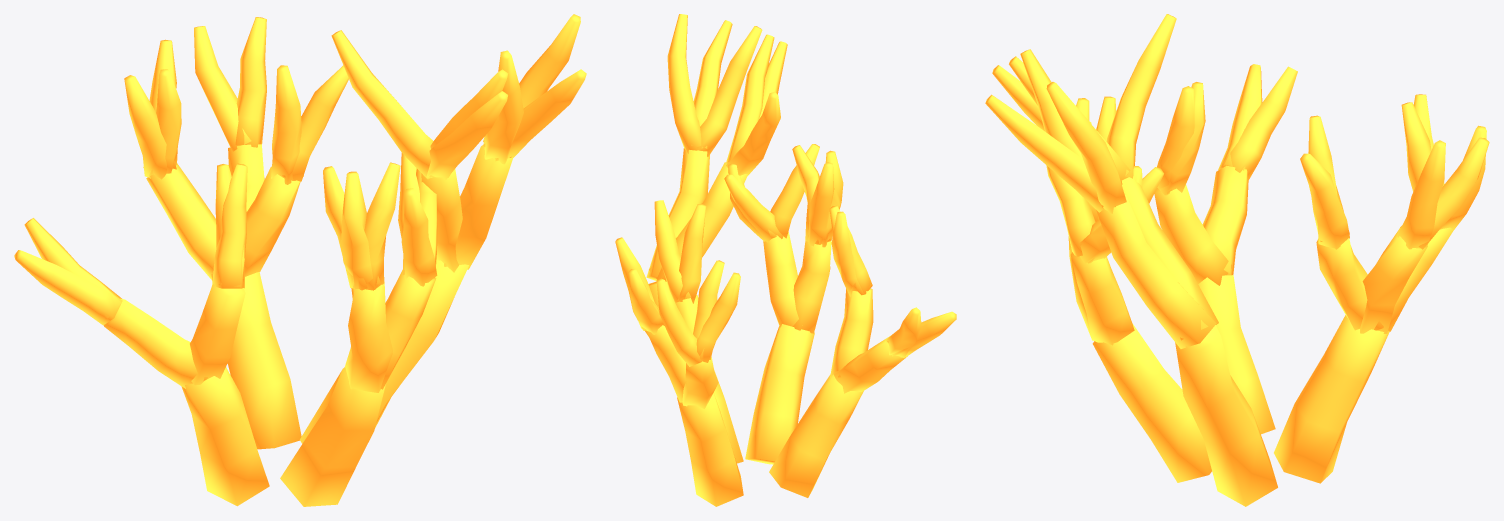
Rendered from coral.fbx.
3 views of the same model, side by side, from view 1: azimuth 30°, elevation 25°; view 2: azimuth 150°, elevation 25°; view 3: azimuth 270°, elevation 25° (orthographic). The views are drawn at different scales.
Visible parts, largest first — view 1: coral; view 2: coral; view 3: coral.
Boxes of the visible parts, box(x1,y1,x2,y2) form: coral: box(14, 14, 586, 506); coral: box(615, 14, 956, 506); coral: box(985, 14, 1489, 506).
Bounding box in the file's own units: 0.7961 × 0.8129 × 0.7692.
